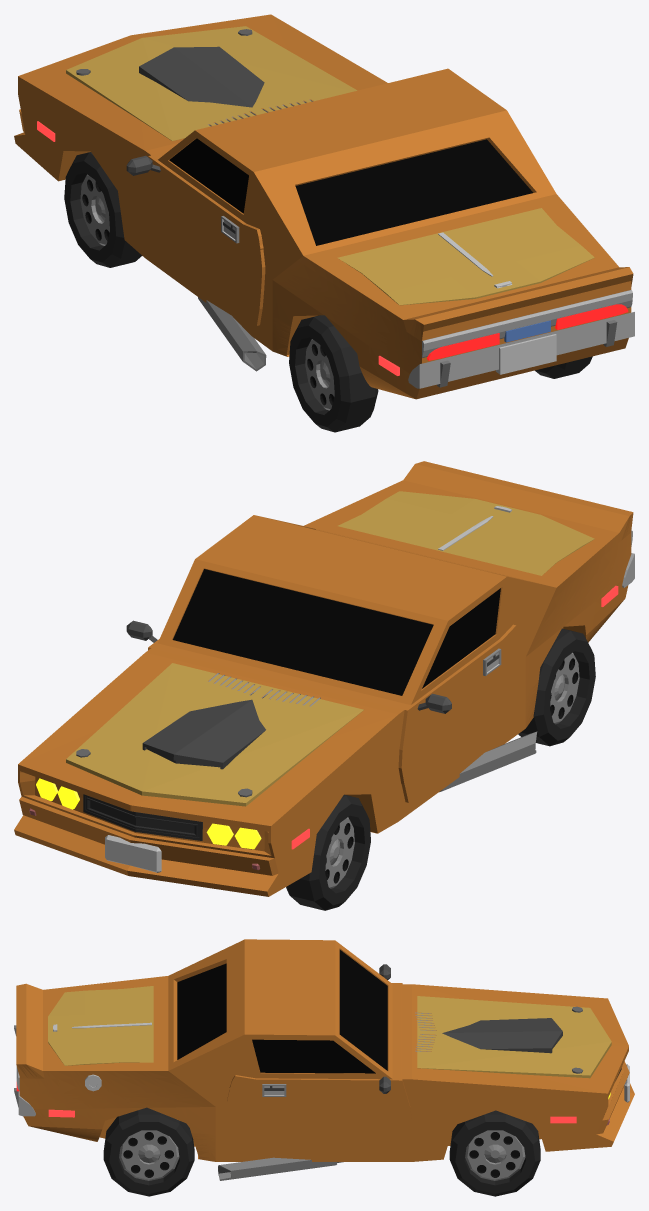
Rendered from Car FBX.fbx.
3 renders of one model, top to bottom at view 1: azimuth 30°, elevation 25°; view 2: azimuth 150°, elevation 25°; view 3: azimuth 270°, elevation 25°, orthographic. The views are drawn at different scales.
Visible parts, largest first — view 1: Cube_1_3, Cube_7_4, Cube_1, Cylinder_2_2, Cube_2_4, Cube_3_3, Cylinder_5, Cube_5_3, Cube_5_4, Cube_6_3, Cylinder_2_4, Cylinder_4_2 (+3 smaller); view 2: Cube_1_3, Cube_1, Cube_7_4, Cube_2_4, Cylinder_5, Cylinder_2_2, Cube_3_5, Cylinder_2_4, plate, Cylinder_4_2, Cylinder, Cylinder_3_2 (+4 smaller); view 3: Cube_1_3, Cube_1, Cube_7_4, Cylinder_2_2, Cylinder_5, Cube_2_4, Cylinder_4_2, Cylinder, Cylinder_2_4.
Boxes of the visible parts, box(x1,y1,x2,y2) form: Cube_1_3: box(14, 14, 633, 399); Cube_7_4: box(337, 208, 594, 305); Cube_1: box(66, 26, 357, 141); Cylinder_2_2: box(289, 315, 592, 432); Cube_2_4: box(139, 46, 265, 114); Cube_3_3: box(408, 312, 634, 388); Cylinder_5: box(64, 152, 141, 267); Cube_5_3: box(422, 290, 632, 357); Cube_5_4: box(427, 304, 628, 360); Cube_6_3: box(495, 334, 556, 374); Cylinder_2_4: box(198, 297, 266, 371); Cylinder_4_2: box(80, 174, 109, 245); Cube_1_3: box(14, 461, 633, 896); Cube_1: box(66, 663, 363, 806); Cube_7_4: box(338, 491, 594, 575); Cube_2_4: box(142, 693, 267, 769); Cylinder_5: box(286, 794, 370, 910); Cylinder_2_2: box(518, 628, 595, 746); Cube_3_5: box(83, 794, 202, 840); Cylinder_2_4: box(439, 731, 537, 792); plate: box(105, 835, 161, 872); Cylinder_4_2: box(325, 817, 354, 888); Cylinder: box(550, 652, 579, 724); Cylinder_3_2: box(555, 651, 589, 728); Cube_1_3: box(16, 939, 634, 1161); Cube_1: box(417, 996, 611, 1078); Cube_7_4: box(48, 986, 153, 1065); Cylinder_2_2: box(103, 1107, 194, 1196); Cylinder_5: box(449, 1110, 540, 1196); Cube_2_4: box(442, 1018, 562, 1053); Cylinder_4_2: box(465, 1130, 525, 1180); Cylinder: box(119, 1130, 179, 1180); Cylinder_2_4: box(218, 1157, 343, 1180).
Size of what is drawn, in the model's own units: 256 by 160 by 552.
